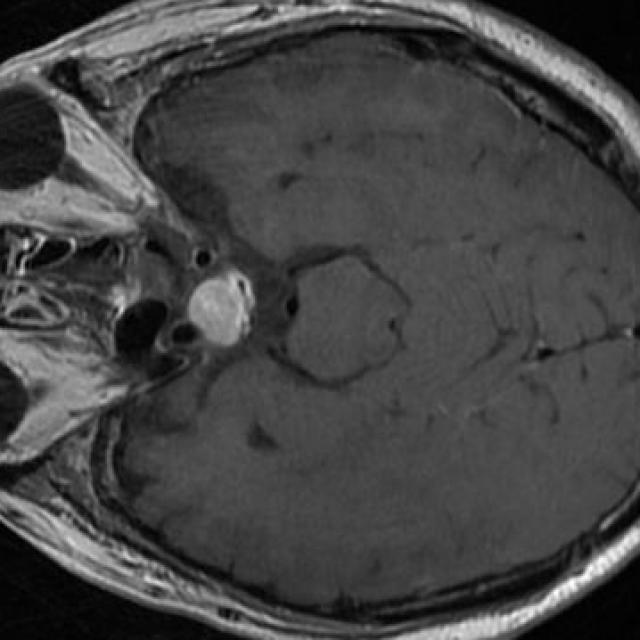pituitary: (187, 276, 250, 346)
